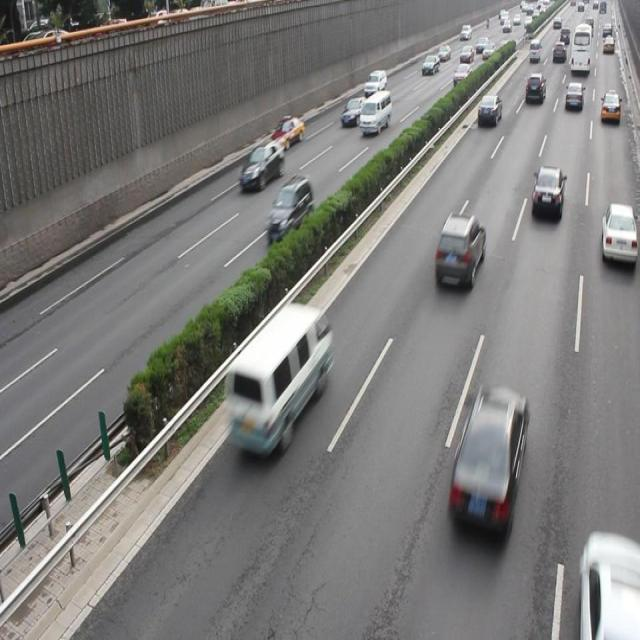car: (446, 386, 528, 543), (576, 532, 640, 640), (433, 212, 484, 286), (266, 174, 312, 244), (598, 202, 640, 265), (238, 142, 281, 192), (529, 164, 563, 220), (270, 114, 304, 150), (476, 94, 501, 125), (340, 97, 366, 126)
truck: (222, 304, 330, 459), (359, 90, 390, 134)
